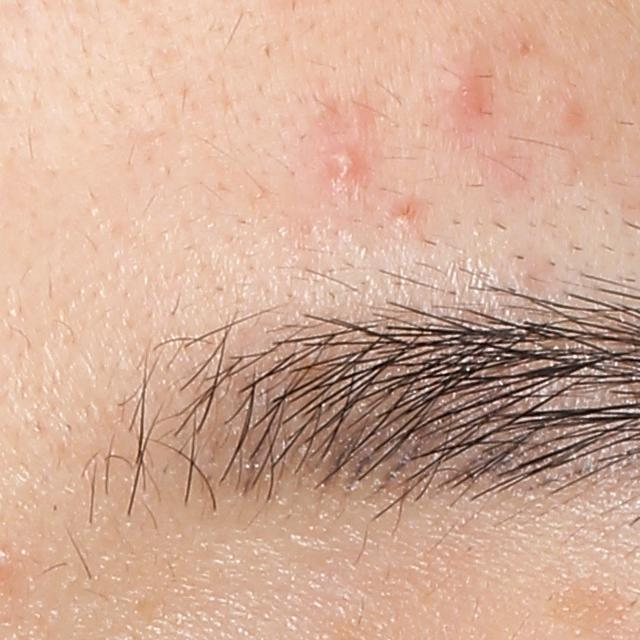melasma: (543, 577, 636, 640)
papule: (441, 65, 485, 112)
pustule: (326, 147, 365, 179)
